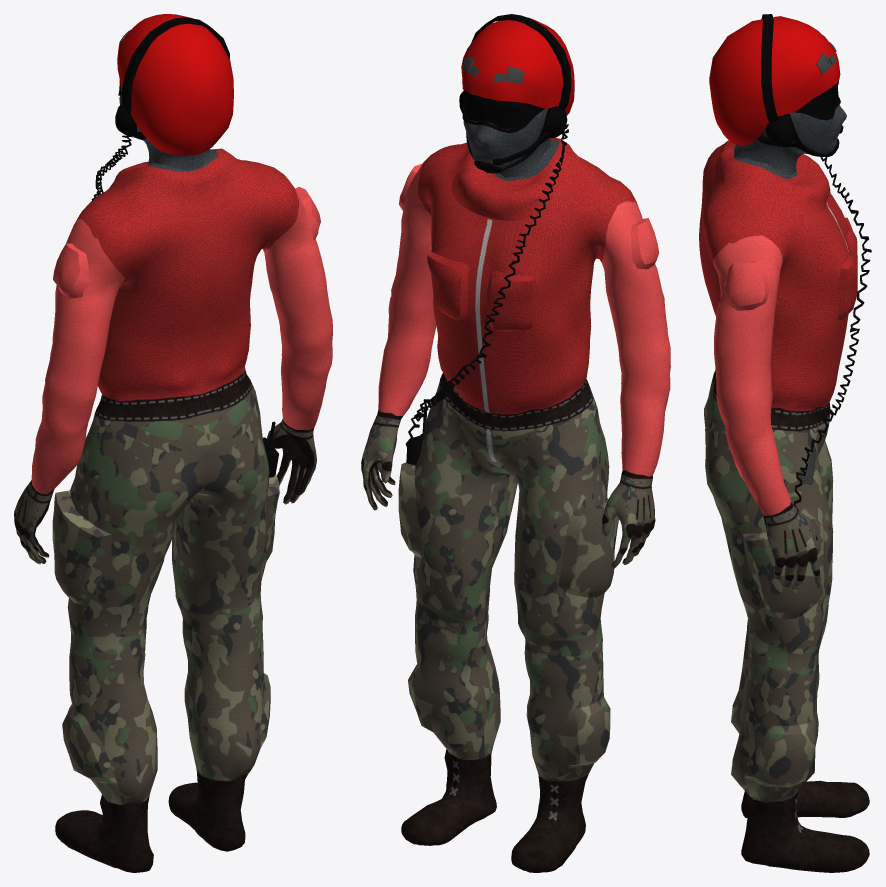
Rendered from crew_red.obj.
3 views of the same model, side by side, from view 1: azimuth 30°, elevation 25°; view 2: azimuth 150°, elevation 25°; view 3: azimuth 270°, elevation 25° (orthographic). The views are drawn at different scales.
Visible parts, largest first — view 1: odel/carrier_crew.fbx/RootNode/Man.006/Man.006_soldier_red_0, model/carrier_crew.fbx/RootNode/Man.007/Man.007_helmet_red_0, l/carrier_crew.fbx/RootNode/coms.003/coms.003_Material.009_0; view 2: odel/carrier_crew.fbx/RootNode/Man.006/Man.006_soldier_red_0, model/carrier_crew.fbx/RootNode/Man.007/Man.007_helmet_red_0, l/carrier_crew.fbx/RootNode/coms.003/coms.003_Material.009_0, ode/coms_spiral_cord.003/coms_spiral_cord.003_Material.004_0, carrier_crew.fbx/RootNode/visor.003/visor.003_glass_visors_0, carrier_crew.fbx/RootNode/visor.003/visor.003_Material.004_0, del/carrier_crew.fbx/RootNode/Man.007/Man.007_helmet_white_0; view 3: odel/carrier_crew.fbx/RootNode/Man.006/Man.006_soldier_red_0, model/carrier_crew.fbx/RootNode/Man.007/Man.007_helmet_red_0, l/carrier_crew.fbx/RootNode/coms.003/coms.003_Material.009_0, ode/coms_spiral_cord.003/coms_spiral_cord.003_Material.004_0, carrier_crew.fbx/RootNode/visor.003/visor.003_Material.004_0.
Part boxes in pixels (box(x1,y1,x2,y2)): odel/carrier_crew.fbx/RootNode/Man.006/Man.006_soldier_red_0: box(14, 95, 332, 872); model/carrier_crew.fbx/RootNode/Man.007/Man.007_helmet_red_0: box(117, 14, 233, 155); l/carrier_crew.fbx/RootNode/coms.003/coms.003_Material.009_0: box(115, 17, 229, 139); odel/carrier_crew.fbx/RootNode/Man.006/Man.006_soldier_red_0: box(361, 108, 670, 872); model/carrier_crew.fbx/RootNode/Man.007/Man.007_helmet_red_0: box(461, 17, 574, 115); l/carrier_crew.fbx/RootNode/coms.003/coms.003_Material.009_0: box(459, 14, 571, 173); ode/coms_spiral_cord.003/coms_spiral_cord.003_Material.004_0: box(405, 107, 568, 452); carrier_crew.fbx/RootNode/visor.003/visor.003_glass_visors_0: box(464, 96, 524, 129); carrier_crew.fbx/RootNode/visor.003/visor.003_Material.004_0: box(462, 91, 544, 133); del/carrier_crew.fbx/RootNode/Man.007/Man.007_helmet_white_0: box(462, 56, 524, 84); odel/carrier_crew.fbx/RootNode/Man.006/Man.006_soldier_red_0: box(699, 105, 869, 872); model/carrier_crew.fbx/RootNode/Man.007/Man.007_helmet_red_0: box(709, 16, 840, 145); l/carrier_crew.fbx/RootNode/coms.003/coms.003_Material.009_0: box(758, 14, 843, 156); ode/coms_spiral_cord.003/coms_spiral_cord.003_Material.004_0: box(793, 157, 871, 511); carrier_crew.fbx/RootNode/visor.003/visor.003_Material.004_0: box(794, 81, 840, 120).
Bounding box in the file's own units: 0.6571 × 1.8 × 0.3434.
9 materials, 2 textured.
